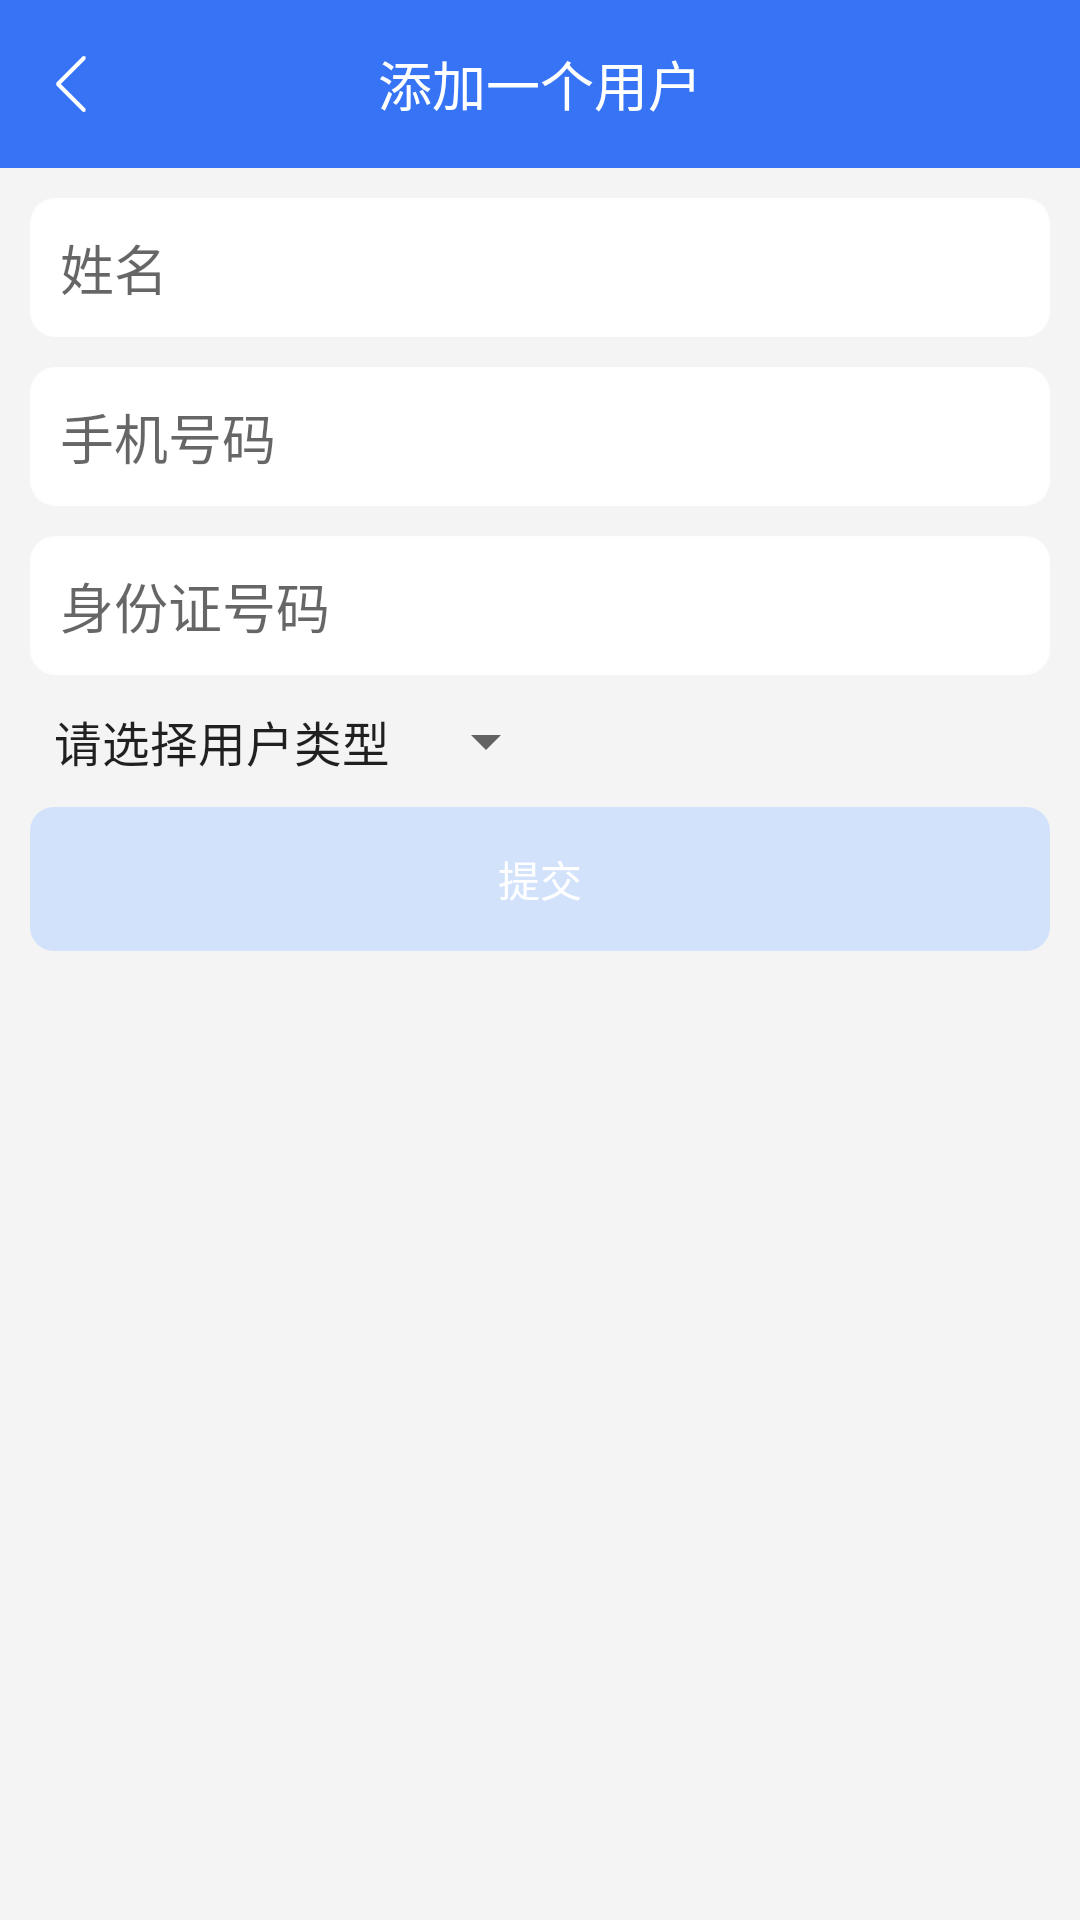

Named icons in this screenshot (1080 x 1920) and their bounding boxes, (x1, y1, x2, y2):
back: (56, 56, 86, 112)
